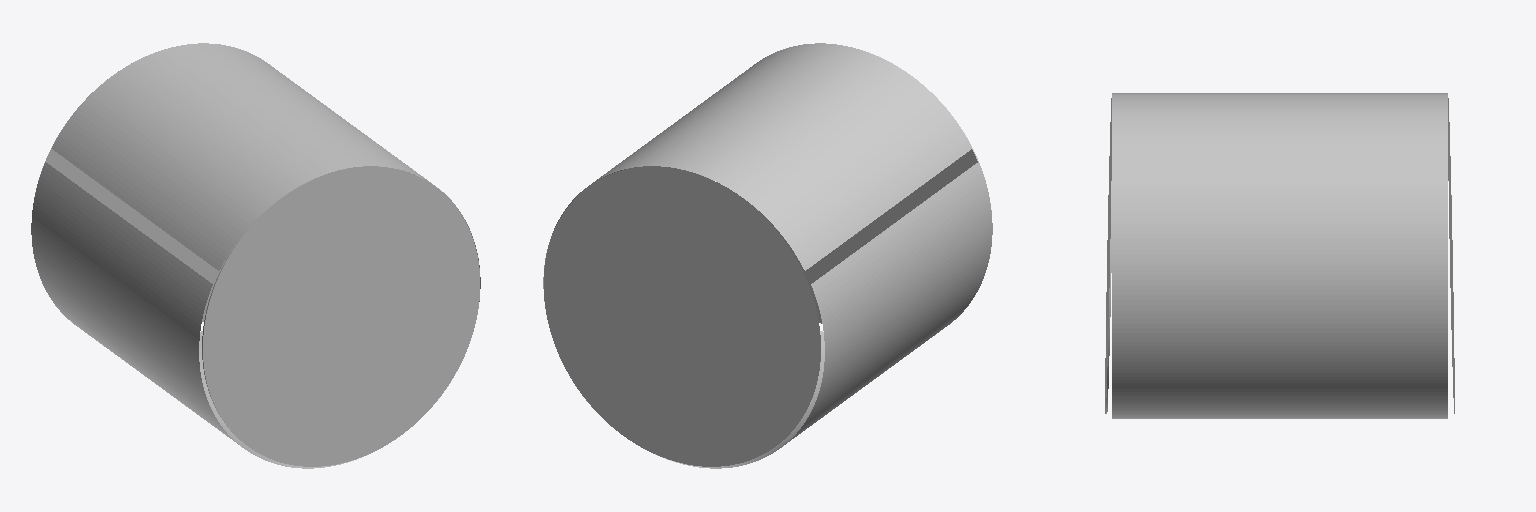
File: plane bend93.obj
3 views of the same model, side by side, from view 1: azimuth 30°, elevation 25°; view 2: azimuth 150°, elevation 25°; view 3: azimuth 270°, elevation 25° (orthographic).
Visible parts, largest first — view 1: Plane, Circle, Circle.001; view 2: Plane, Circle.001, Circle; view 3: Plane, Circle, Circle.001.
Part boxes in pixels (bbox=[...]): Plane: bbox=[31, 43, 480, 468]; Circle: bbox=[202, 166, 479, 466]; Circle.001: bbox=[35, 63, 240, 321]; Plane: bbox=[543, 43, 992, 468]; Circle.001: bbox=[544, 166, 820, 466]; Circle: bbox=[717, 44, 988, 323]; Plane: bbox=[1112, 93, 1447, 418]; Circle: bbox=[1105, 98, 1112, 413]; Circle.001: bbox=[1448, 98, 1454, 413].
Bounding box in the file's own units: 1.94 × 1.94 × 2.08.